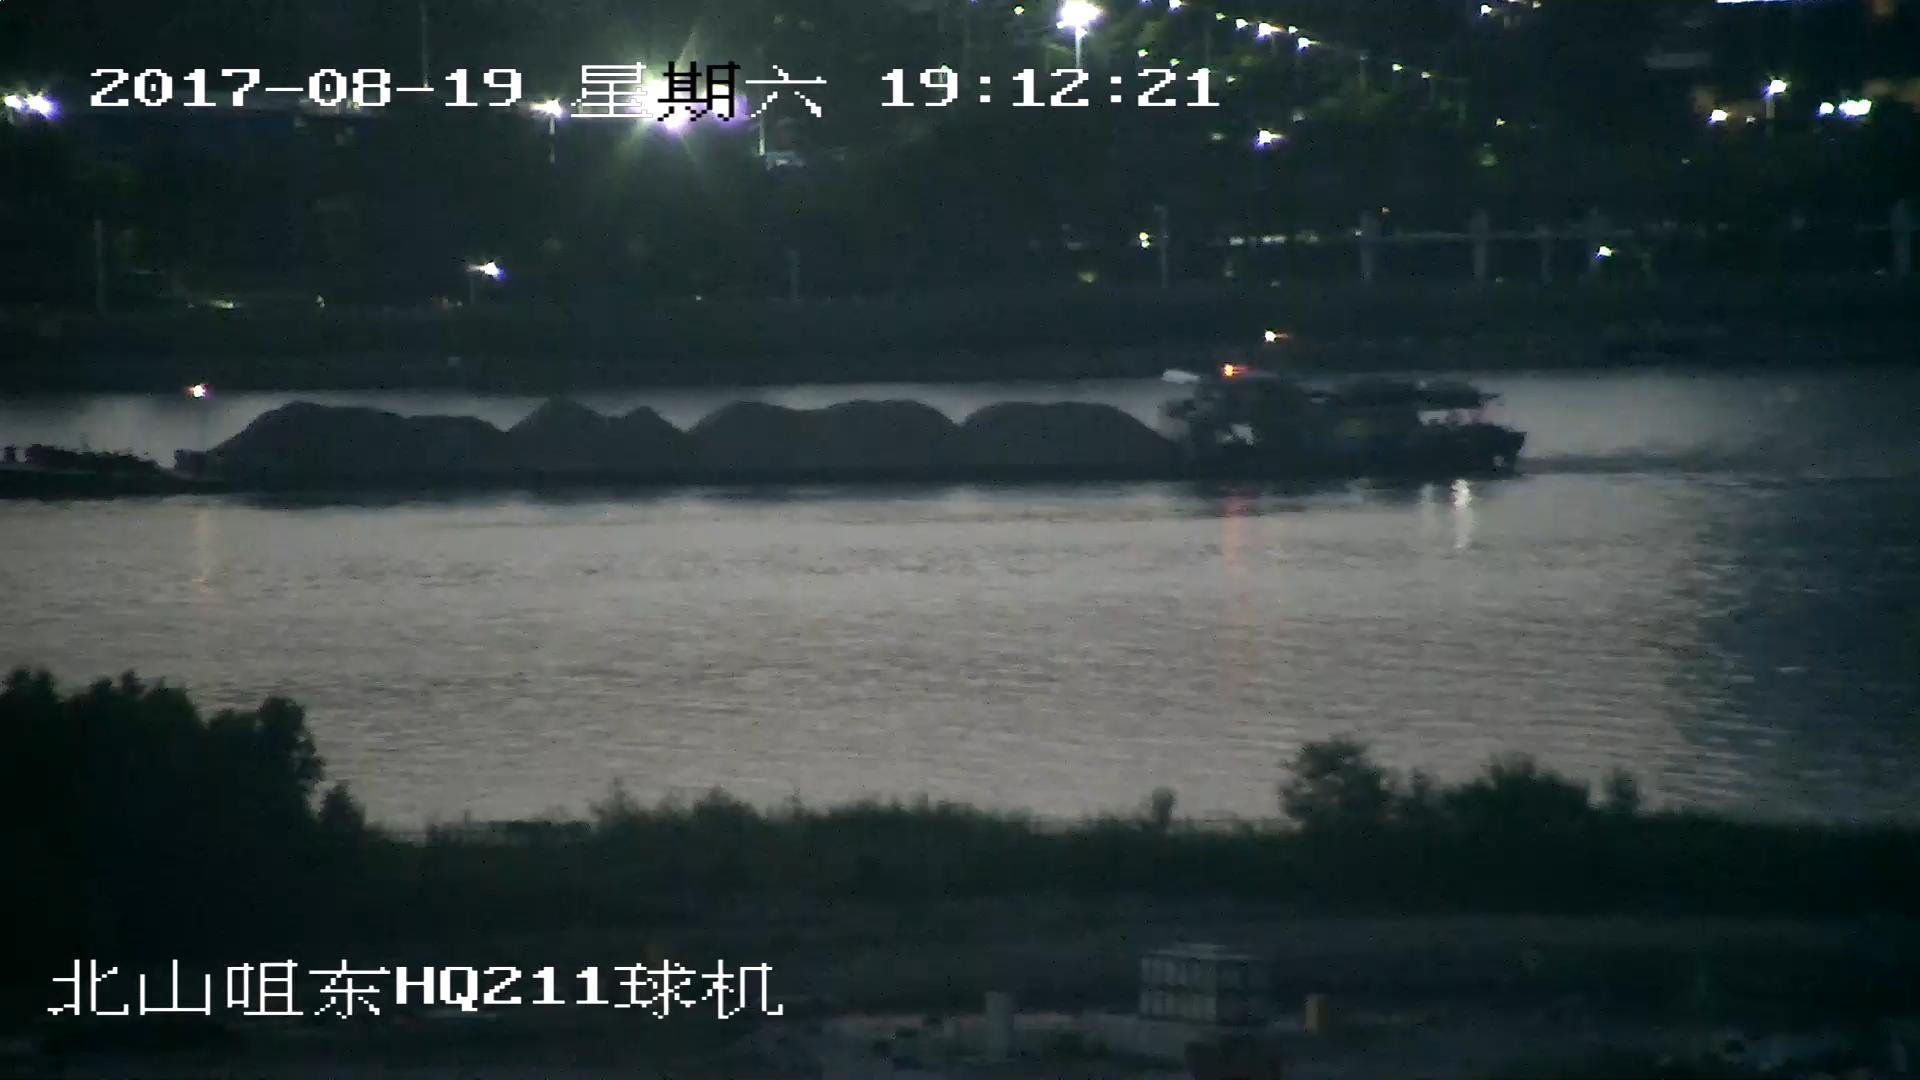Ship: (3, 356, 1524, 502)
